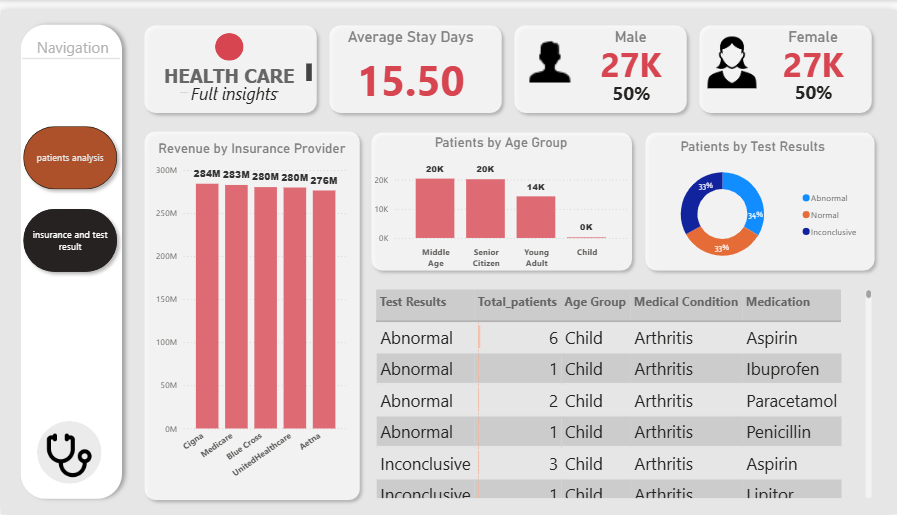

Layout of this report page (visuals, bound fields, positions):
{"tool":"powerbi","page":{"name":"insurance and test result","canvas":[1280,720],"ordinal":1},"visuals":[{"type":"shape","box":[16.5,9.6,166.5,699.2],"z":0},{"type":"shape","box":[195.4,12.4,264.3,143.1],"z":1000},{"type":"shape","box":[459.7,12.4,264.3,143.1],"z":2000},{"type":"shape","box":[724,12.4,264.3,143.1],"z":3000},{"type":"shape","box":[988.2,12.4,264.3,143.1],"z":4000},{"type":"shape","box":[195.2,164.4,325.9,544.6],"z":5000},{"type":"shape","box":[520.5,166.3,390.4,215.4],"z":6000},{"type":"shape","box":[910.8,166.3,345.5,215.4],"z":8000},{"type":"textbox","box":[209.7,71.2,238.7,51.4],"z":9000},{"type":"textbox","box":[36.9,33,130.5,51.4],"z":10000},{"type":"textbox","box":[209.7,97.6,251.9,55.4],"z":11000},{"type":"shape","box":[305.9,33,40.9,39.6],"z":12000},{"type":"card","title":"Male","fields":{"Values":["All Measures.Male"]},"box":[814.8,26.2,170.7,75.7],"z":14000},{"type":"card","fields":{"Values":["All Measures.Male %"]},"box":[834.1,90.8,132.1,55.1],"z":15000},{"type":"card","title":"Female","fields":{"Values":["All Measures.Female"]},"box":[1068.7,26.2,183.1,75.7],"z":16000},{"type":"card","fields":{"Values":["All Measures.Female %"]},"box":[1083.9,90.8,152.8,53.7],"z":17000},{"type":"image","box":[736.3,26.2,95,90.8],"z":18000},{"type":"image","box":[1004.7,33,79.8,84],"z":19000},{"type":"columnChart","title":"Revenue by Insurance Provider","fields":{"Y":["Sum(healthcare_dataset.Billing Amount)"],"Category":["healthcare_dataset.Insurance Provider"]},"box":[216.3,185.9,284.8,501.1],"z":20000},{"type":"tableEx","fields":{"Values":["healthcare_dataset.Test Results","All Measures.Total Emp","healthcare_dataset.Age Group","healthcare_dataset.Medical Condition","healthcare_dataset.Medication"]},"box":[529.5,393.8,718.8,308.1],"z":21000},{"type":"shape","box":[51.4,586.8,92.3,89.7],"z":33000},{"type":"shape","box":[30.2,61.6,140.1,15.7],"z":34000},{"type":"card","title":"Average Stay Days","fields":{"Values":["All Measures.Avg Stay Days"]},"box":[433.7,26,302.2,118.6],"z":34001},{"type":"columnChart","title":"Patients by Age Group","fields":{"Category":["healthcare_dataset.Age Group"],"Y":["CountNonNull(healthcare_dataset.Name)"]},"box":[529.2,177.8,371.6,199.5],"z":34002},{"type":"image","box":[33.3,597.1,128.7,78.1],"z":34003},{"type":"donutChart","title":"Patients by Test Results","fields":{"Category":["healthcare_dataset.Test Results"],"Y":["CountNonNull(healthcare_dataset.Name)"]},"box":[910.8,182.2,325.3,195.2],"z":34004},{"type":"pageNavigator","box":[22.9,157.1,152.9,227.1],"z":34005}]}

Visuals, with their boxes in screenshot pixels (x1, y1, x2, y2), scaled from the page's 1280x720 canvas onto the 897x515 screenshot:
shape: box=[12, 7, 128, 507]
shape: box=[137, 9, 322, 111]
shape: box=[322, 9, 507, 111]
shape: box=[507, 9, 693, 111]
shape: box=[693, 9, 878, 111]
shape: box=[137, 118, 365, 507]
shape: box=[365, 119, 638, 273]
shape: box=[638, 119, 880, 273]
textbox: box=[147, 51, 314, 88]
textbox: box=[26, 24, 117, 60]
textbox: box=[147, 70, 323, 109]
shape: box=[214, 24, 243, 52]
"Male" card: box=[571, 19, 691, 73]
card - All Measures.Male %: box=[585, 65, 677, 104]
"Female" card: box=[749, 19, 877, 73]
card - All Measures.Female %: box=[760, 65, 867, 103]
image: box=[516, 19, 583, 84]
image: box=[704, 24, 760, 84]
"Revenue by Insurance Provider" columnChart: box=[152, 133, 351, 491]
tableEx - healthcare_dataset.Test Results x All Measures.Total Emp: box=[371, 282, 875, 502]
shape: box=[36, 420, 101, 484]
shape: box=[21, 44, 119, 55]
"Average Stay Days" card: box=[304, 19, 516, 103]
"Patients by Age Group" columnChart: box=[371, 127, 631, 270]
image: box=[23, 427, 114, 483]
"Patients by Test Results" donutChart: box=[638, 130, 866, 270]
pageNavigator: box=[16, 112, 123, 275]
